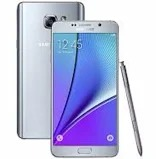samsung: (50, 19, 119, 158)
